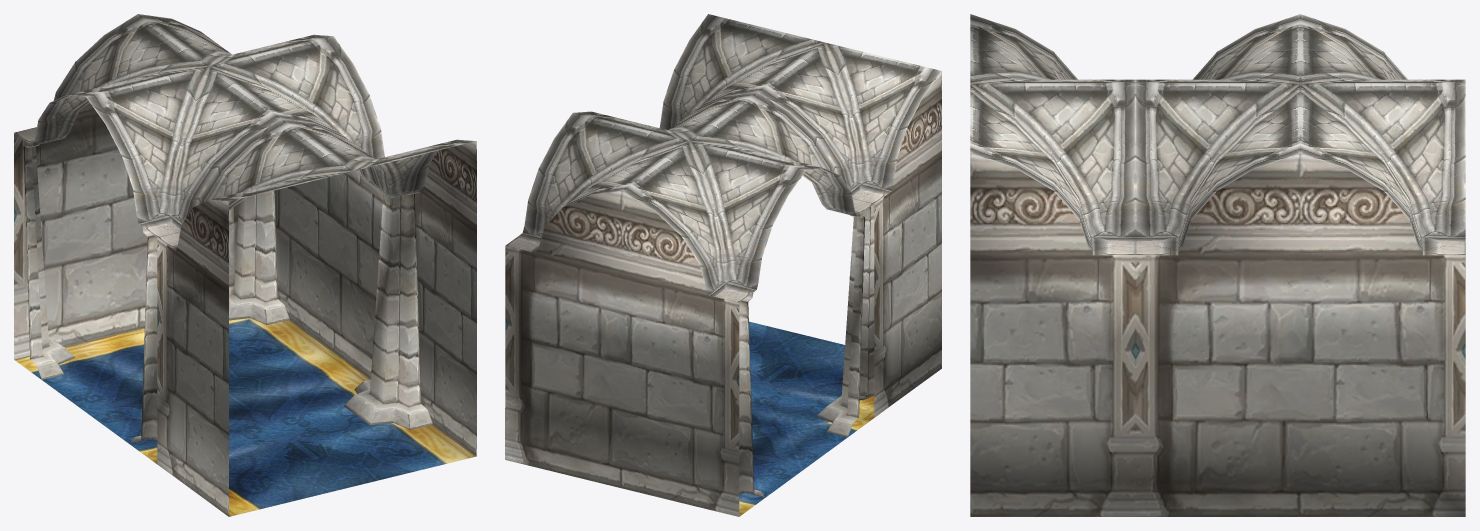
The model's file is stormwind_116.fbx.
3 views of the same model, side by side, from view 1: azimuth 30°, elevation 25°; view 2: azimuth 150°, elevation 25°; view 3: azimuth 270°, elevation 25° (orthographic). The views are drawn at different scales.
Parts seen in each view (by area): view 1: stormwind_116_62, stormwind_116_111, stormwind_116_68, stormwind_116_60, stormwind_116_61; view 2: stormwind_116_62, stormwind_116_111, stormwind_116_68, stormwind_116_60, stormwind_116_61; view 3: stormwind_116_62, stormwind_116_111.
Part boxes in pixels (x1,y1,x2,y2): stormwind_116_62: (14,103,476,516); stormwind_116_111: (14,14,475,250); stormwind_116_68: (14,318,476,516); stormwind_116_60: (23,146,420,454); stormwind_116_61: (24,143,432,483); stormwind_116_62: (505,71,941,516); stormwind_116_111: (505,14,941,302); stormwind_116_68: (739,321,874,516); stormwind_116_60: (739,203,889,493); stormwind_116_61: (523,191,900,497); stormwind_116_62: (970,153,1465,516); stormwind_116_111: (970,14,1465,255).
Bounding box in the file's own units: 9.42 × 11.44 × 14.12.
